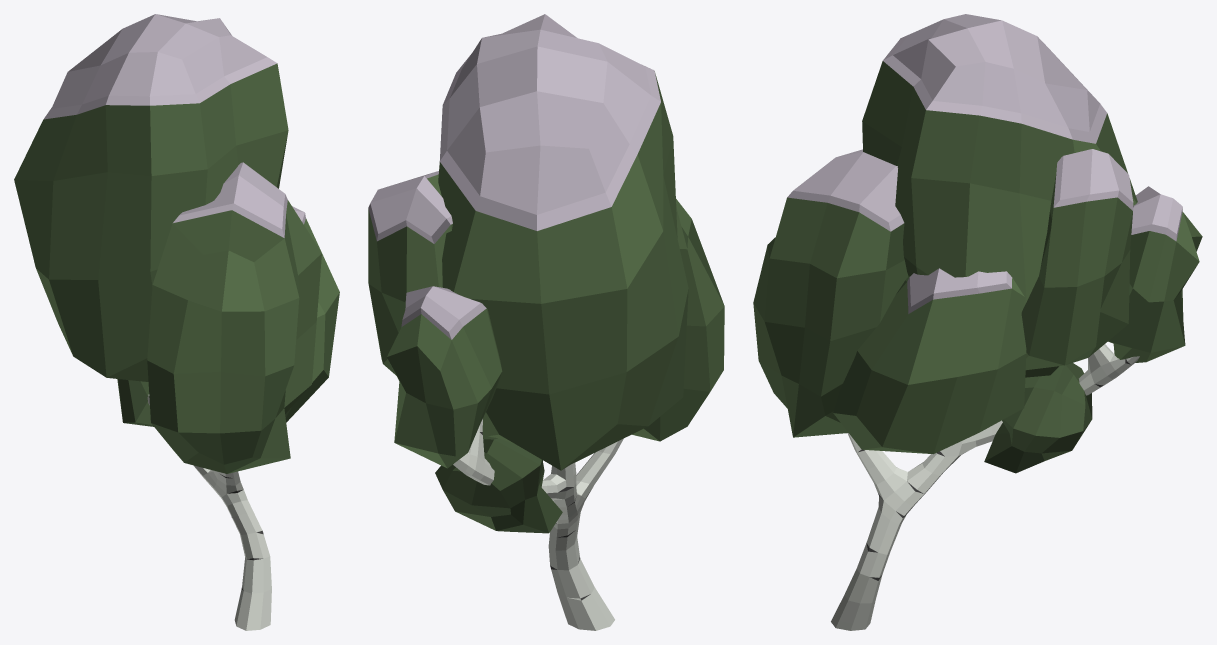
File: birchtree_snow_1.glb
3 renders of one model, left to right at view 1: azimuth 30°, elevation 25°; view 2: azimuth 150°, elevation 25°; view 3: azimuth 270°, elevation 25°, orthographic. The views are drawn at different scales.
Parts seen in each view (by area): view 1: BirchTree_Snow_1; view 2: BirchTree_Snow_1; view 3: BirchTree_Snow_1.
Part boxes in pixels (<box>): BirchTree_Snow_1: <box>14,14,339,630</box>; BirchTree_Snow_1: <box>368,14,724,630</box>; BirchTree_Snow_1: <box>753,14,1202,630</box>.
Size of the model in its own units: 4.08 by 8.61 by 5.95.
